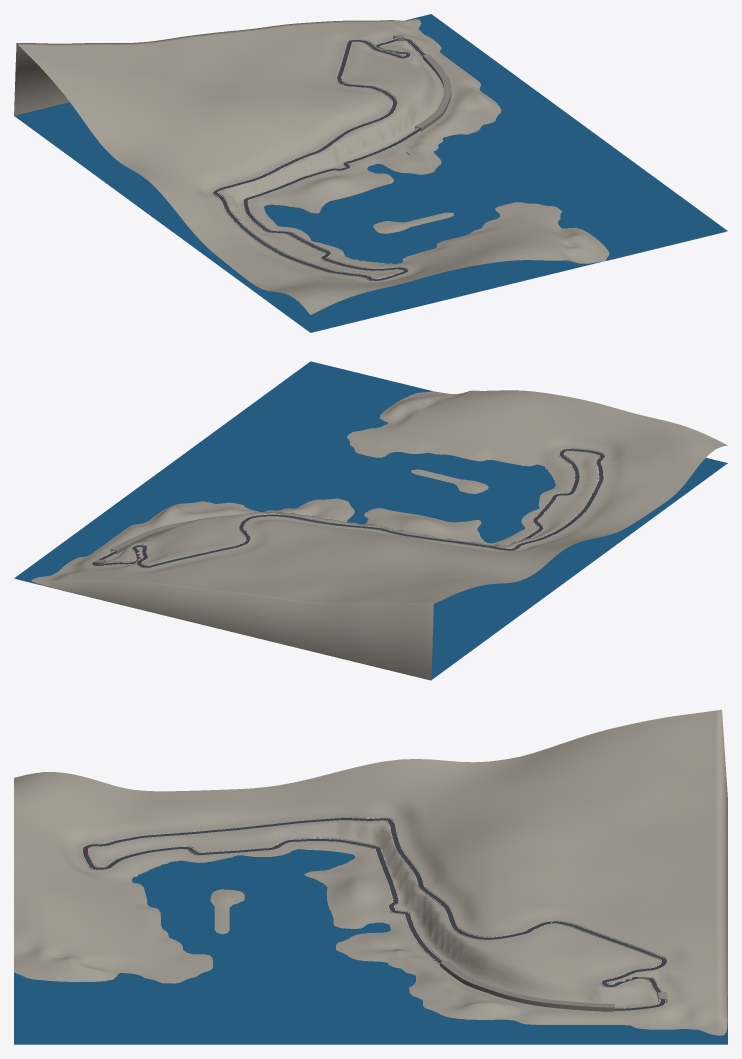
The model's file is monaco_track.glb.
The picture shows the model from 3 angles, top to bottom: view 1: azimuth 30°, elevation 25°; view 2: azimuth 150°, elevation 25°; view 3: azimuth 270°, elevation 25°; orthographic projection. The views are drawn at different scales.
Parts seen in each view (by area): view 1: Terrain, Sea, Track_Asphalt, Barrier_R, Barrier_L, Tunnel_1; view 2: Terrain, Sea, Track_Asphalt, Barrier_L, Barrier_R; view 3: Terrain, Sea, Track_Asphalt, Barrier_R, Barrier_L, Tunnel_1.
Boxes of the visible parts, x1,y1,x2,y2 form: Terrain: (14, 19, 725, 314); Sea: (14, 14, 727, 332); Track_Asphalt: (213, 38, 424, 280); Barrier_R: (218, 40, 422, 278); Barrier_L: (212, 38, 425, 281); Tunnel_1: (415, 54, 451, 131); Terrain: (16, 390, 727, 680); Sea: (14, 361, 727, 679); Track_Asphalt: (92, 449, 604, 567); Barrier_L: (91, 448, 605, 568); Barrier_R: (104, 450, 599, 565); Terrain: (14, 709, 727, 1035); Sea: (14, 849, 727, 1044); Track_Asphalt: (82, 818, 666, 1010); Barrier_R: (89, 820, 660, 1008); Barrier_L: (81, 817, 668, 1011); Tunnel_1: (440, 960, 614, 1011).
Bounding box in the file's own units: 975 × 168 × 1200.
